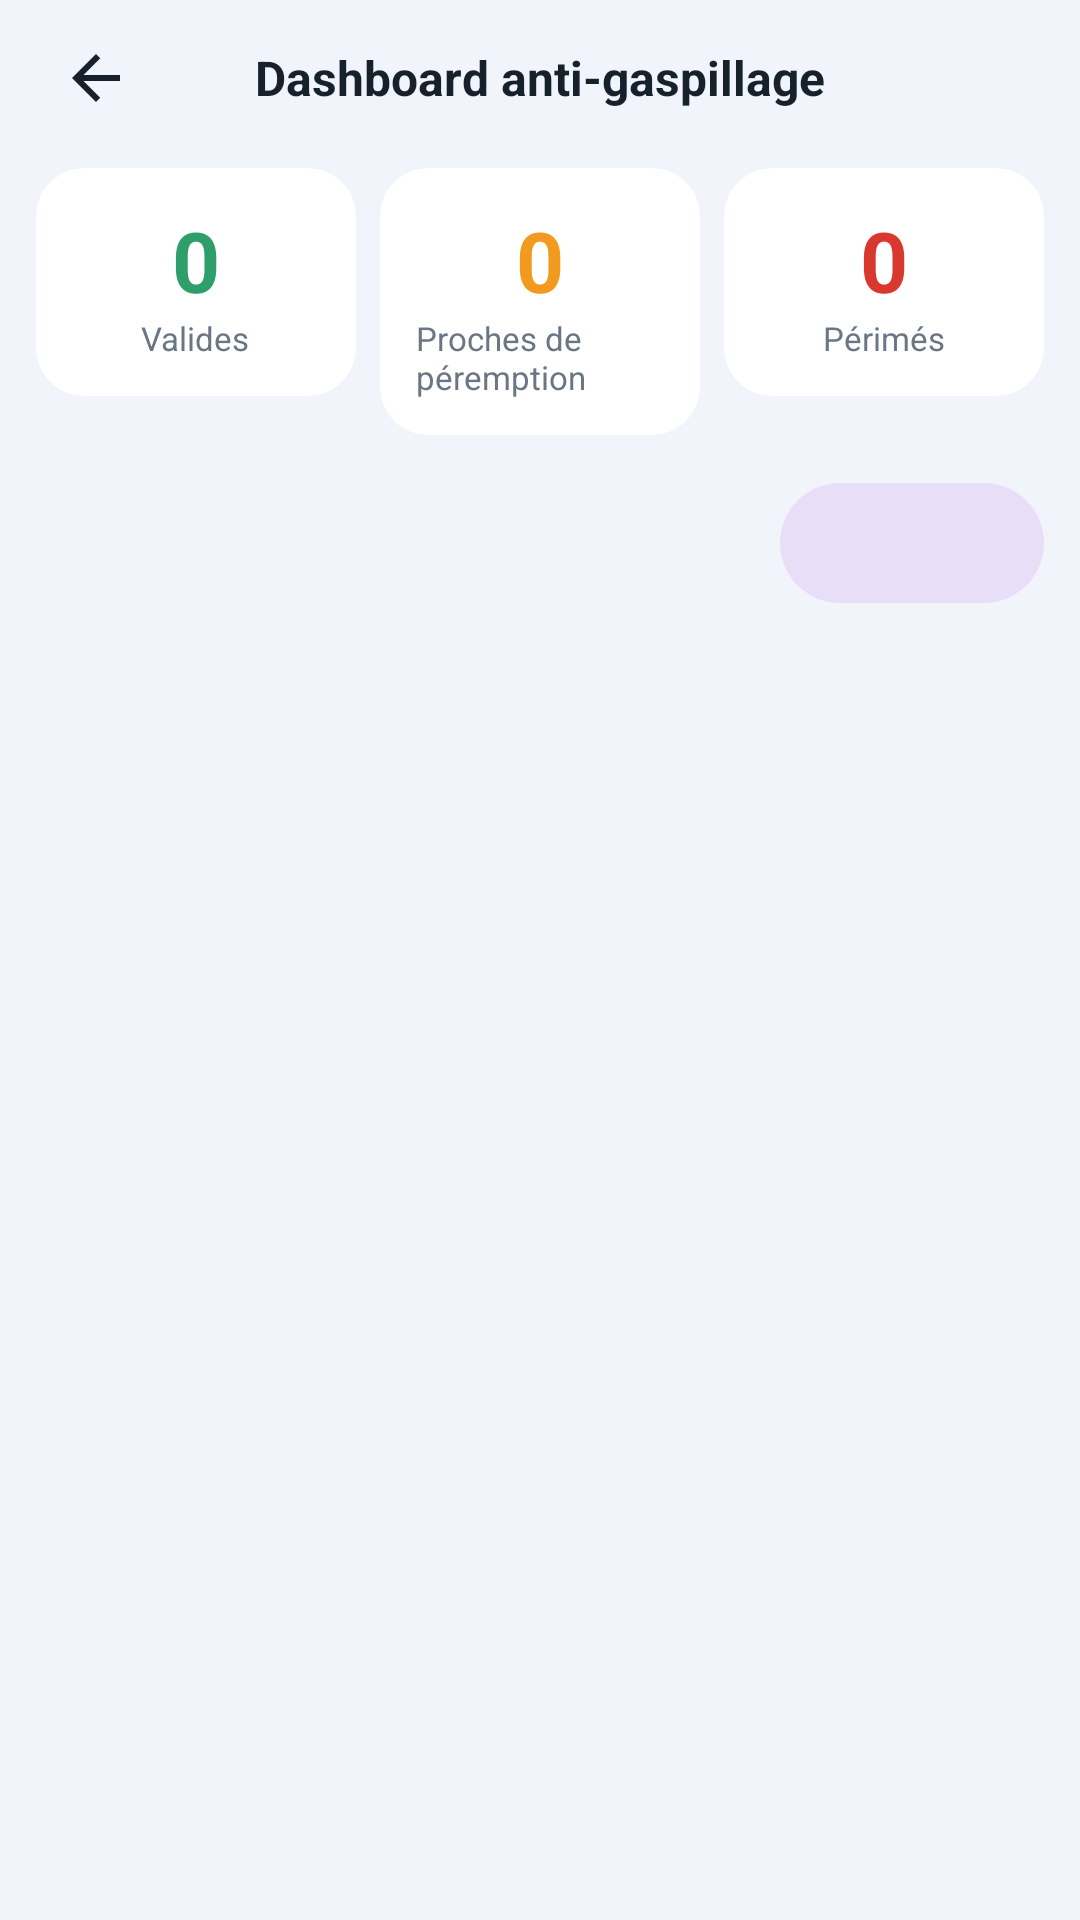

Named icons in this screenshot (1080×1920) and their bounding boxes, rect(x1, y1, x2, y2):
Retour: rect(72, 54, 120, 102)
